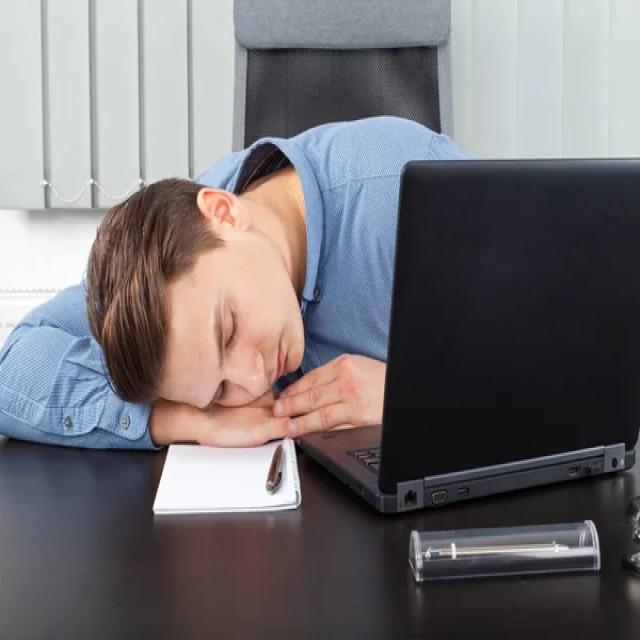Sleepy: (157, 251, 306, 407)
